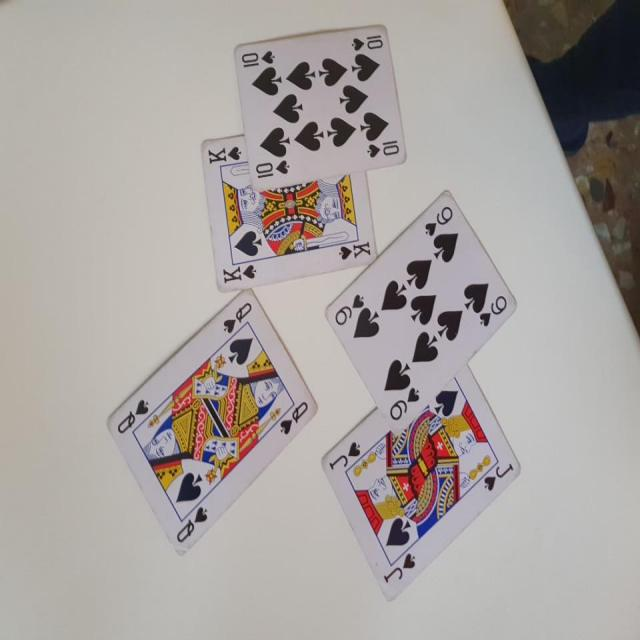10 Spades: (233, 15, 412, 184)
9 Spades: (321, 183, 520, 440)
J Spades: (317, 364, 537, 614)
K Spades: (199, 110, 386, 292)
Q Spades: (107, 285, 319, 560)
